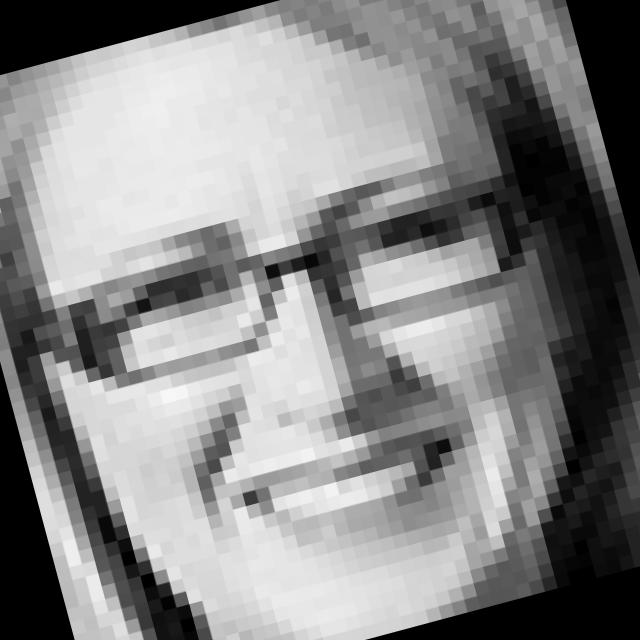happy: (72, 138, 563, 608)
